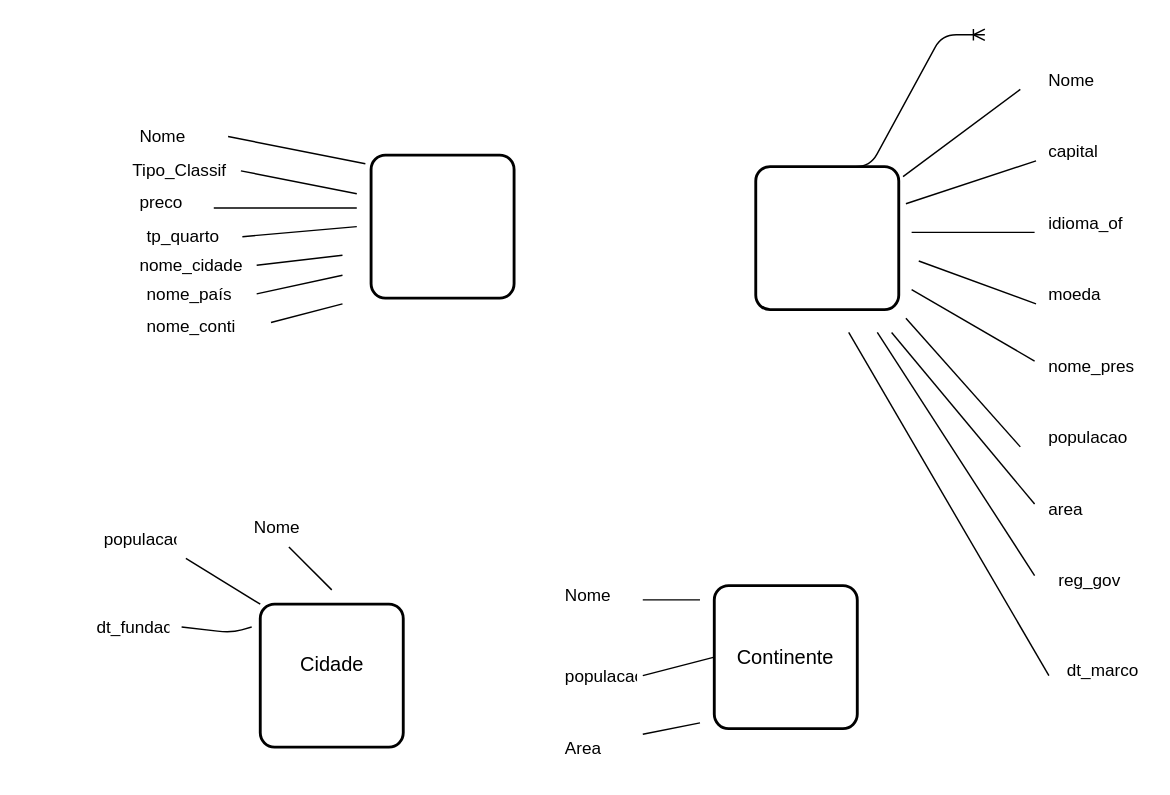
The diagram is 1170 pixels wide and 795 high, and some of its shapes have lost their labels. Here are the shapes that lost their labels. From the top down, the centre of each, then its label:
point (442, 226): hotel
point (826, 237): País
